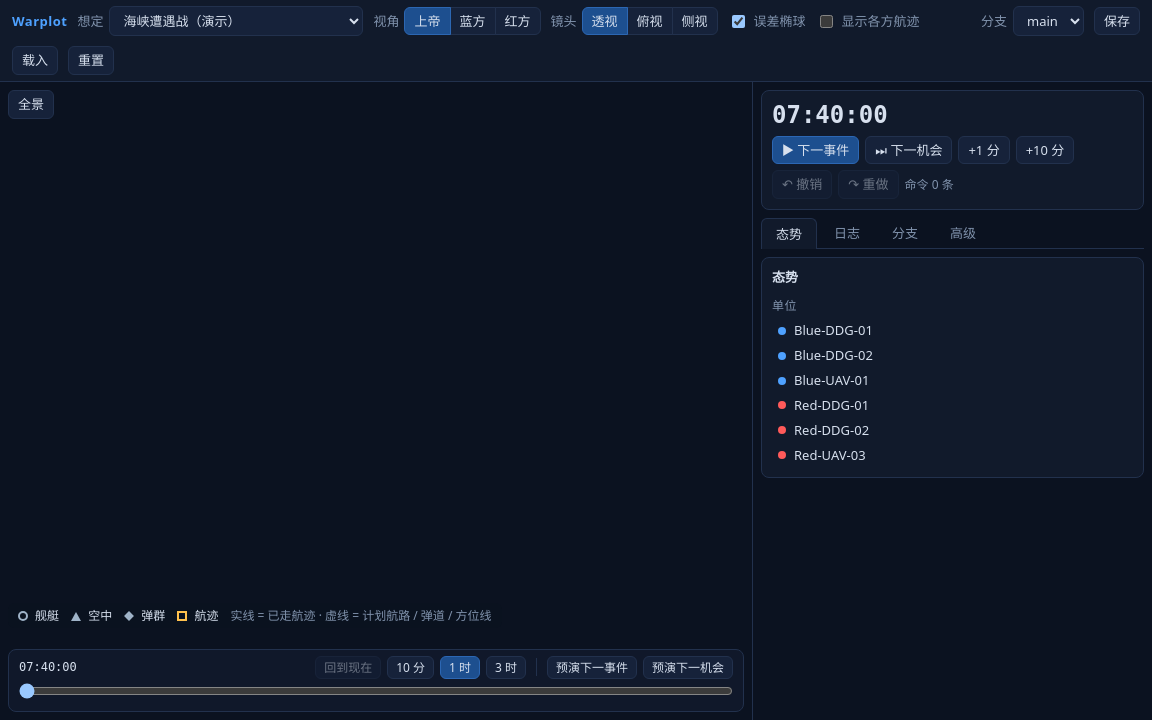
Test: Phase 3 interface › sidebar tabs switch panels and remember the choice
Click the tab "日志" at (847, 233), box [819,218,875,248]
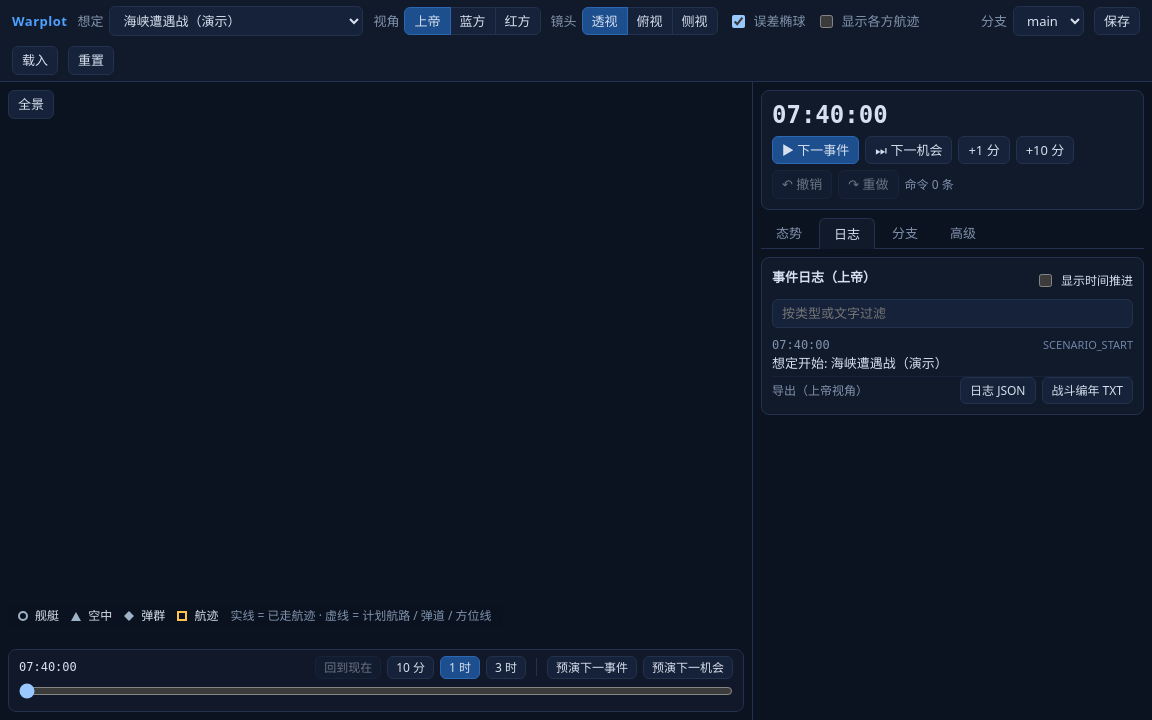
Check: the heading "事件日志（上帝）" is shown, box [772,268,876,287]
Click the tab "高级" at (963, 233), box [935,218,991,248]
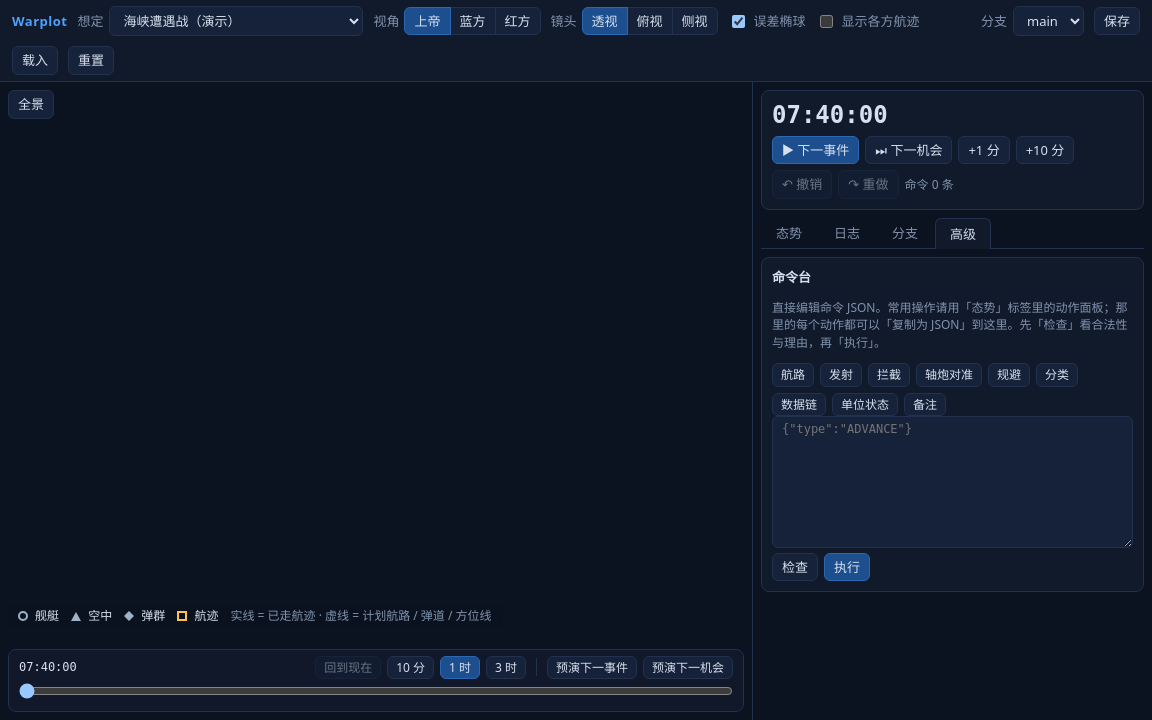
Check: the heading "命令台" is shown, box [772,268,811,286]
